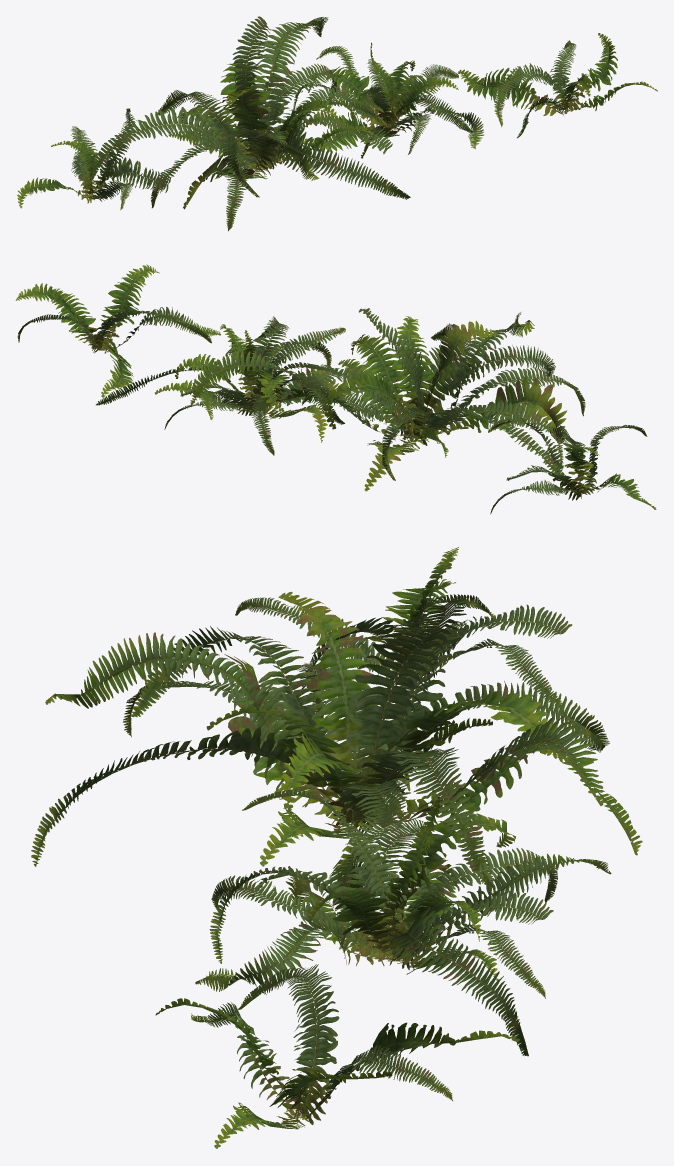
File: f3_v2_fern_colony.glb
3 renders of one model, top to bottom at view 1: azimuth 30°, elevation 25°; view 2: azimuth 150°, elevation 25°; view 3: azimuth 270°, elevation 25°, orthographic. The views are drawn at different scales.
Parts seen in each view (by area): view 1: f3_v2_polyhaven_fern02_surface; view 2: f3_v2_polyhaven_fern02_surface; view 3: f3_v2_polyhaven_fern02_surface.
Part boxes in pixels (box(x1,y1,x2,y2)): f3_v2_polyhaven_fern02_surface: box(17, 16, 657, 231); f3_v2_polyhaven_fern02_surface: box(15, 264, 656, 514); f3_v2_polyhaven_fern02_surface: box(31, 547, 642, 1148).
Bounding box in the file's own units: 2.03 × 0.4405 × 0.9205.
Materials: 1 (1 with a texture image).
